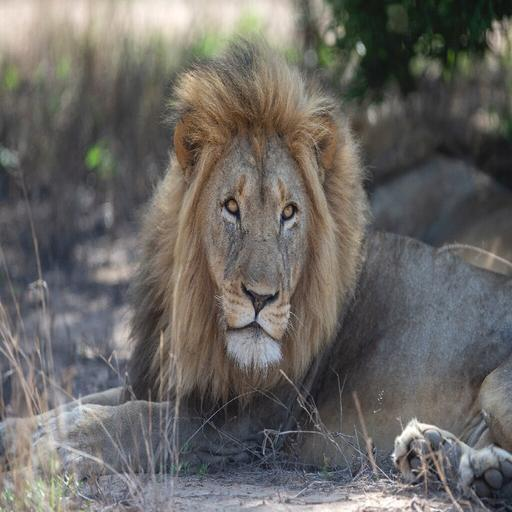Lion: (2, 50, 512, 512)
